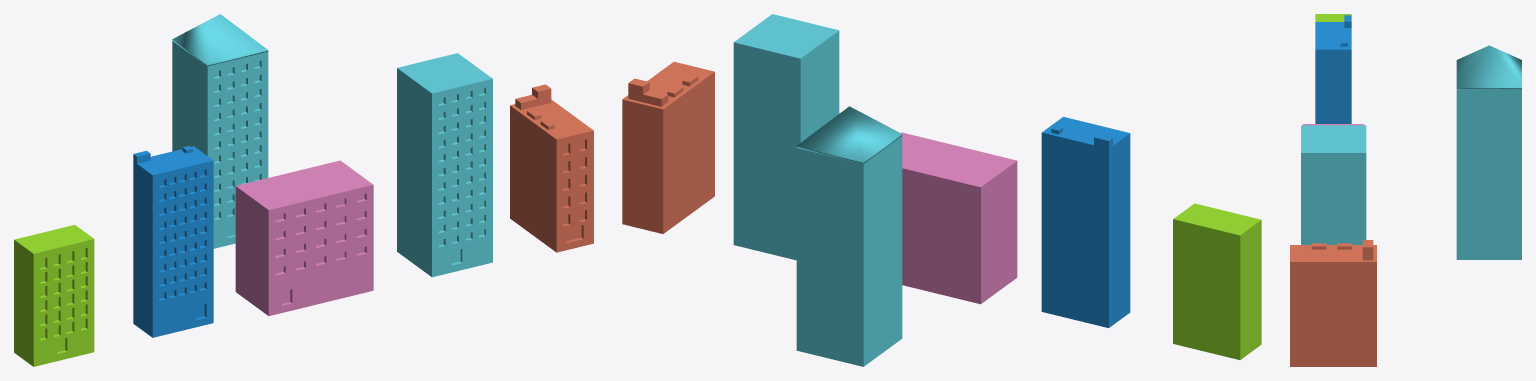
File: buildings.fbx
3 renders of one model, left to right at view 1: azimuth 30°, elevation 25°; view 2: azimuth 150°, elevation 25°; view 3: azimuth 270°, elevation 25°, orthographic. The views are drawn at different scales.
Visible parts, largest first — view 1: building4, building3, building6, building2, building5, building1; view 2: building6, building4, building2, building3, building5, building1; view 3: building6, building5, building4, building2, building1.
Part boxes in pixels (<box>): building4: <box>397,53,492,277</box>; building3: <box>235,160,373,315</box>; building6: <box>172,14,268,248</box>; building2: <box>133,146,213,337</box>; building5: <box>510,84,593,252</box>; building1: <box>14,225,94,366</box>; building6: <box>796,106,902,366</box>; building4: <box>733,14,839,260</box>; building2: <box>1041,117,1130,327</box>; building3: <box>901,132,1017,304</box>; building5: <box>622,61,714,233</box>; building1: <box>1173,203,1261,359</box>; building6: <box>1456,45,1521,259</box>; building5: <box>1290,240,1376,366</box>; building4: <box>1301,125,1366,244</box>; building2: <box>1315,15,1351,123</box>; building1: <box>1315,14,1351,21</box>.
Size of the model in its own units: 16180 by 6114 by 6397.
